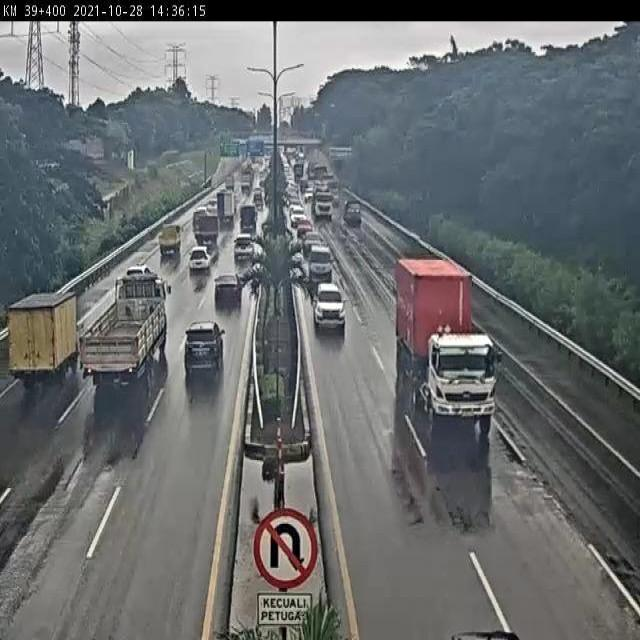big truck: (397, 257, 500, 435), (80, 274, 170, 390)
car: (183, 320, 225, 379), (312, 276, 344, 324), (307, 241, 334, 280), (212, 271, 242, 304), (186, 246, 212, 274), (231, 231, 255, 260), (123, 264, 153, 284), (304, 229, 325, 256)
small truck: (8, 290, 80, 386), (193, 212, 220, 247), (157, 224, 183, 257)
